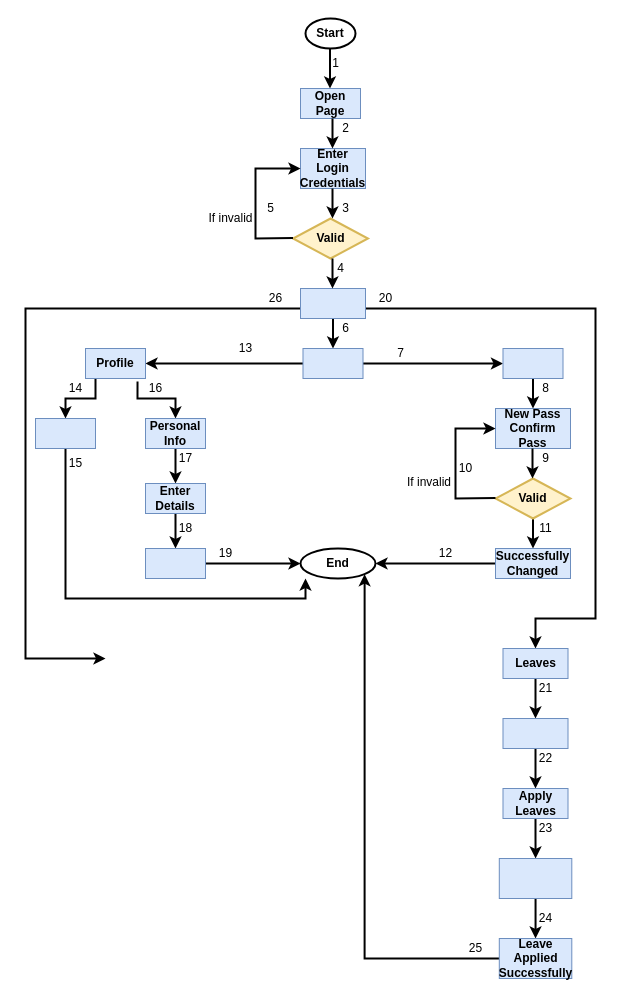
The diagram is 621 pixels wide and 997 high, and some of its shapes have lost their labels. The shapes that lost their labels are listed below. From the top down, each one's centre as x and y in pixels, then its label:
point 333,303: Dashboard
point 332,363: Profile Button
point 532,363: Change Password
point 65,433: Show Overview
point 175,563: Save Details
point 535,733: My Leaves
point 535,878: Enter Leave Details
